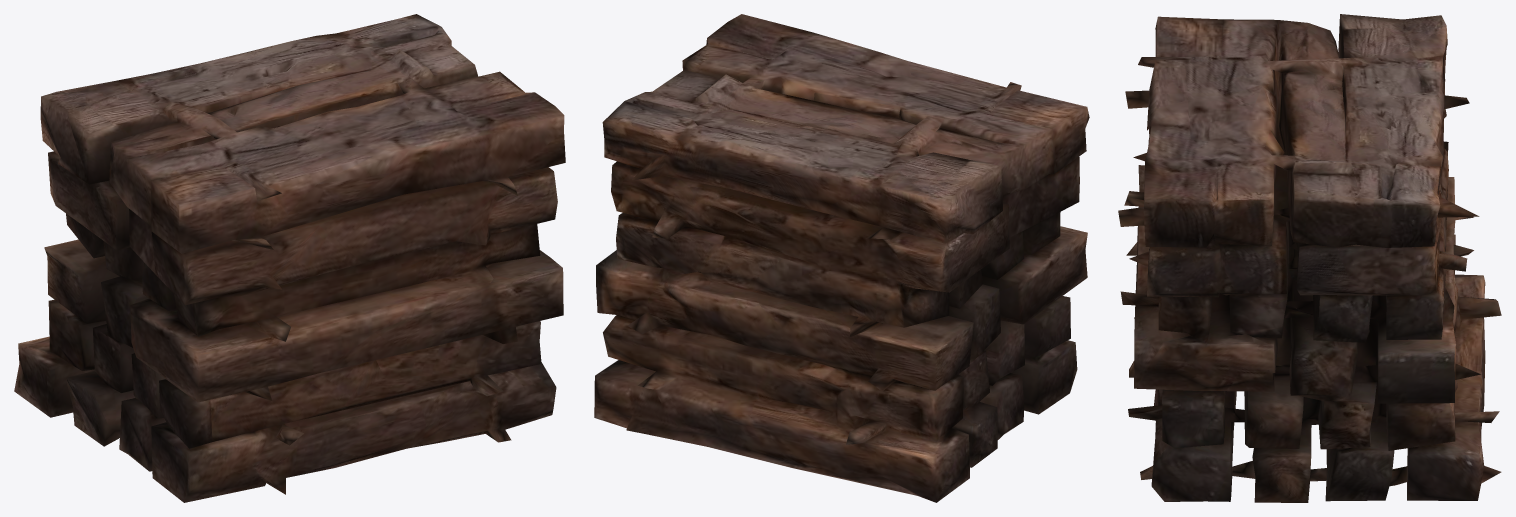
File: qr_sleepers.glb
3 renders of one model, left to right at view 1: azimuth 30°, elevation 25°; view 2: azimuth 150°, elevation 25°; view 3: azimuth 270°, elevation 25°, orthographic. The views are drawn at different scales.
Parts seen in each view (by area): view 1: tripo_node_a5e516ad-efc8-454b-a978-574c2a0f55c0; view 2: tripo_node_a5e516ad-efc8-454b-a978-574c2a0f55c0; view 3: tripo_node_a5e516ad-efc8-454b-a978-574c2a0f55c0.
Part boxes in pixels (<box>): tripo_node_a5e516ad-efc8-454b-a978-574c2a0f55c0: <box>14,14,565,502</box>; tripo_node_a5e516ad-efc8-454b-a978-574c2a0f55c0: <box>594,14,1089,502</box>; tripo_node_a5e516ad-efc8-454b-a978-574c2a0f55c0: <box>1118,14,1501,502</box>.
Size of the model in its own units: 1 by 0.8026 by 0.8679.
1 material, 1 textured.
